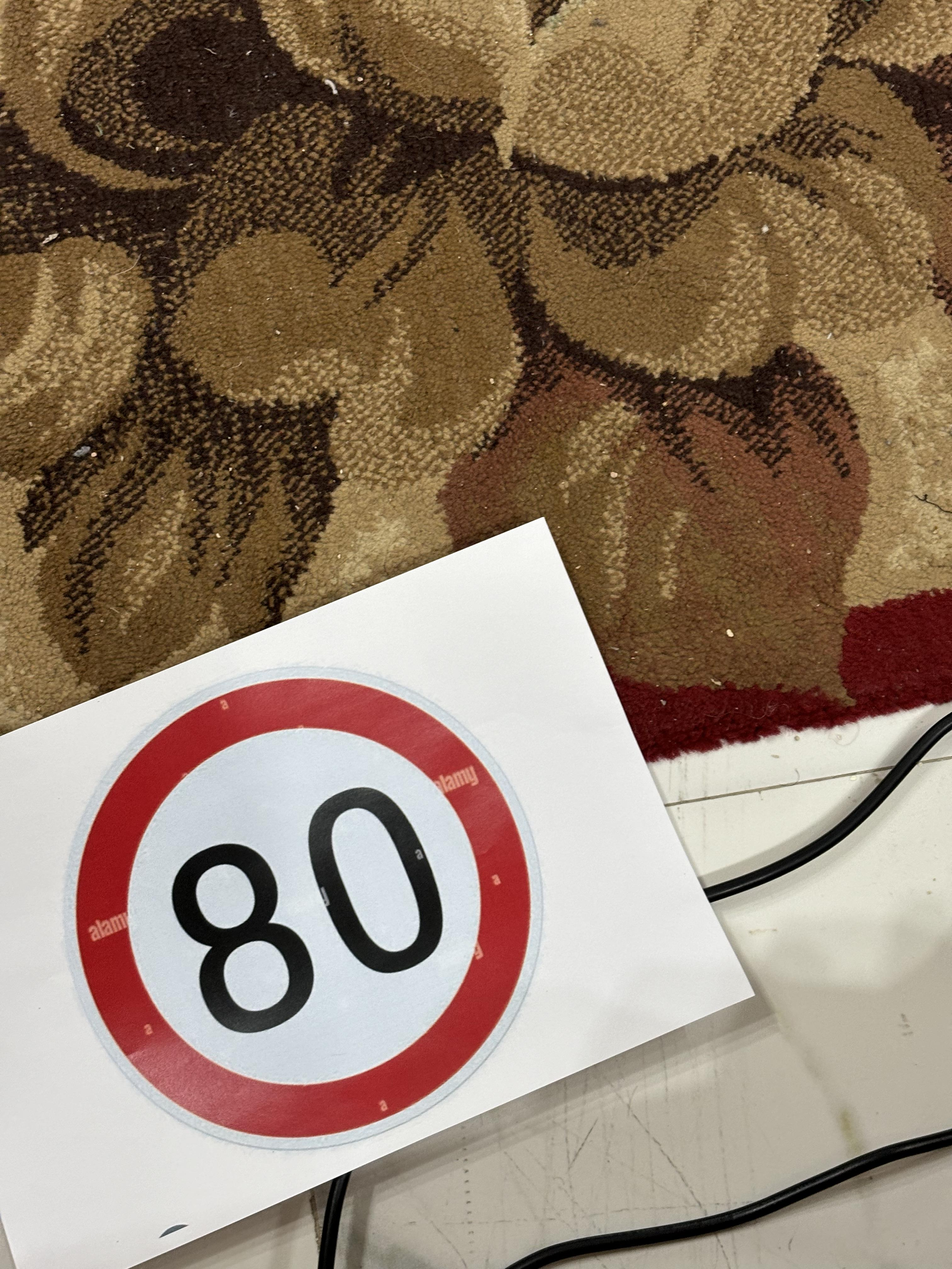80-Speed: (70, 665, 530, 1142)
